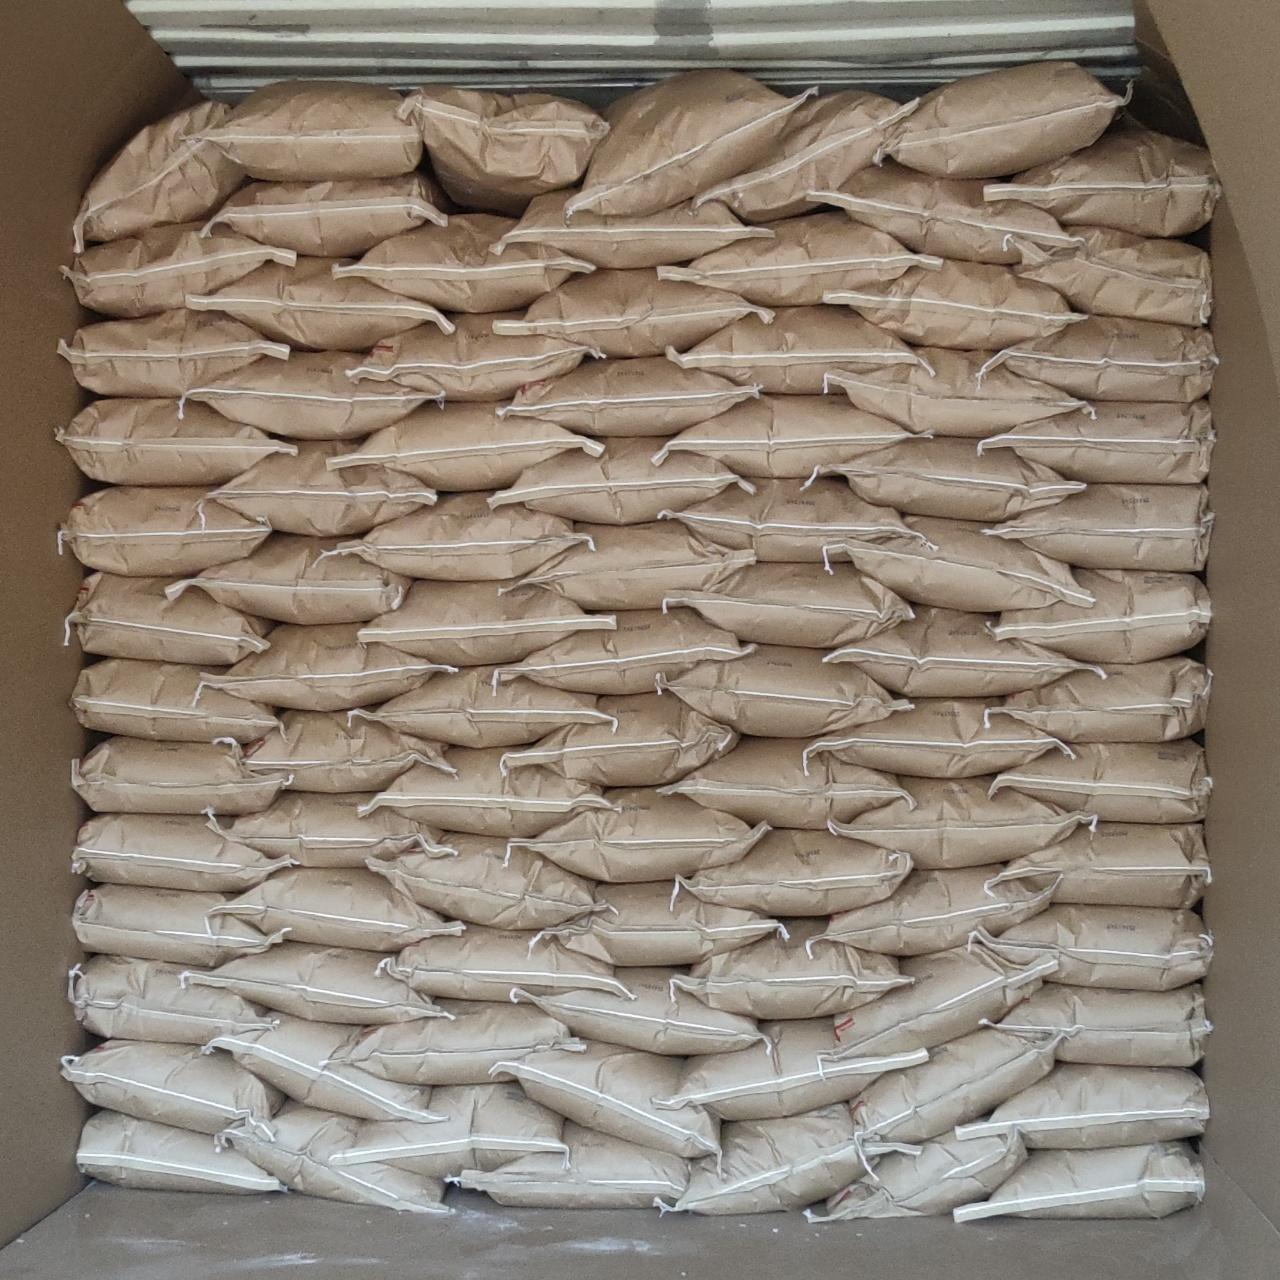sack: (566, 72, 813, 215), (695, 91, 919, 222), (806, 161, 1078, 263), (673, 1103, 918, 1214), (881, 62, 1124, 173), (986, 122, 1218, 236), (399, 88, 606, 215), (493, 1042, 719, 1158), (658, 212, 940, 304), (826, 946, 1048, 1062), (662, 1020, 922, 1118), (72, 98, 246, 244), (204, 1016, 444, 1121), (218, 1104, 444, 1214), (828, 516, 1084, 610), (824, 606, 1096, 694), (188, 258, 445, 350), (336, 218, 592, 309), (510, 788, 768, 878), (830, 776, 1092, 864), (501, 270, 765, 356), (826, 348, 1085, 436), (336, 402, 600, 488), (826, 260, 1080, 348), (855, 1030, 1054, 1142), (662, 738, 908, 828), (678, 922, 908, 1017), (184, 352, 436, 438), (508, 968, 762, 1054), (813, 438, 1082, 518), (498, 610, 750, 694), (352, 314, 602, 399), (66, 224, 294, 316), (182, 942, 445, 1022), (210, 442, 436, 535), (372, 748, 610, 836), (368, 835, 595, 926), (532, 881, 784, 964), (207, 624, 452, 708), (490, 440, 745, 520), (668, 308, 915, 392), (663, 396, 920, 476), (666, 646, 898, 734), (813, 866, 1046, 954), (360, 580, 608, 662), (971, 904, 1212, 988), (990, 570, 1210, 662), (962, 1064, 1206, 1148), (448, 1122, 688, 1206), (206, 84, 422, 178), (62, 1040, 278, 1133), (178, 535, 408, 622), (504, 694, 734, 782), (663, 564, 910, 646), (518, 522, 750, 608), (343, 1084, 561, 1176), (808, 1130, 1022, 1223), (358, 668, 612, 745), (56, 399, 286, 484), (350, 1000, 583, 1084), (663, 478, 908, 558), (207, 172, 445, 254), (498, 358, 754, 434), (982, 484, 1210, 570), (806, 700, 1068, 774), (57, 309, 286, 394), (956, 1142, 1201, 1220), (978, 400, 1214, 481), (226, 869, 462, 949), (1014, 226, 1210, 324), (983, 316, 1216, 399), (343, 493, 576, 576), (685, 830, 910, 914), (60, 488, 270, 574), (986, 983, 1210, 1064), (998, 822, 1210, 906), (992, 740, 1210, 822), (498, 200, 770, 266), (380, 926, 628, 998), (70, 956, 272, 1044), (68, 574, 270, 662), (1000, 658, 1210, 740), (212, 792, 452, 864), (74, 884, 282, 966), (79, 1110, 286, 1190), (244, 712, 454, 790), (74, 813, 288, 890), (72, 660, 275, 740), (74, 738, 288, 812)
